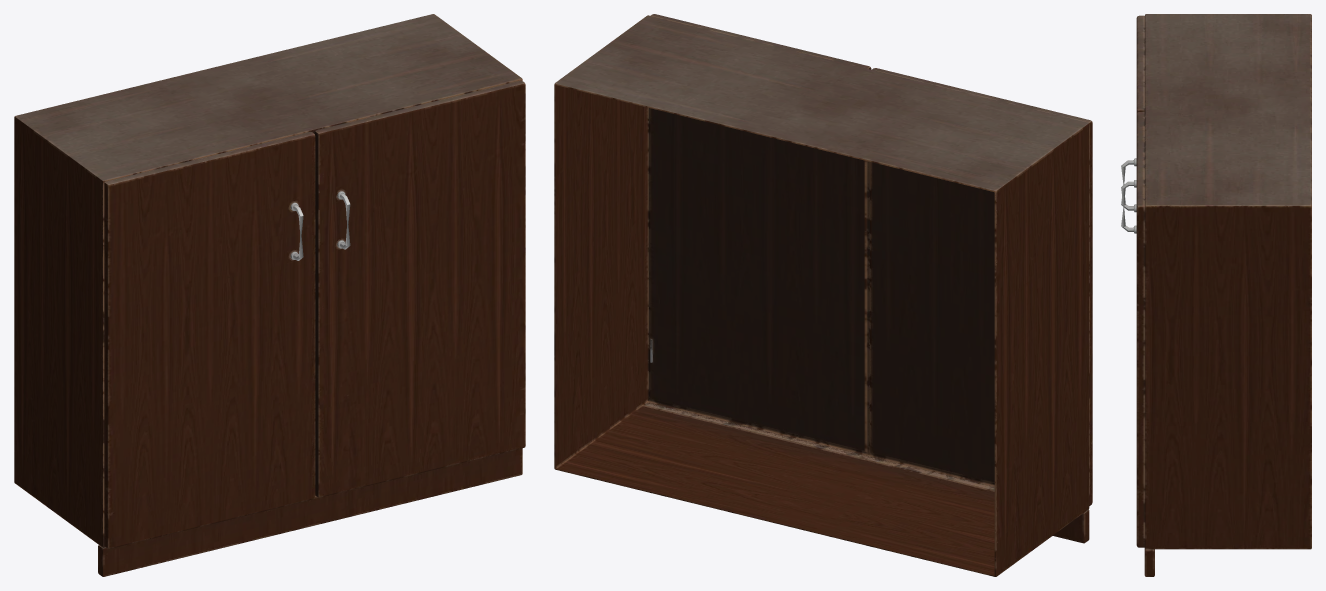
The model's file is kit_upper_90.glb.
3 renders of one model, left to right at view 1: azimuth 30°, elevation 25°; view 2: azimuth 150°, elevation 25°; view 3: azimuth 270°, elevation 25°, orthographic. The views are drawn at different scales.
Parts seen in each view (by area): view 1: kit_upper_90; view 2: kit_upper_90; view 3: kit_upper_90.
Boxes of the visible parts, bbox=[...] form: kit_upper_90: bbox=[14, 14, 525, 576]; kit_upper_90: bbox=[554, 14, 1092, 576]; kit_upper_90: bbox=[1121, 14, 1311, 576].
Bounding box in the file's own units: 0.898 × 0.81 × 0.3768.
Materials: 1 (1 with a texture image).
